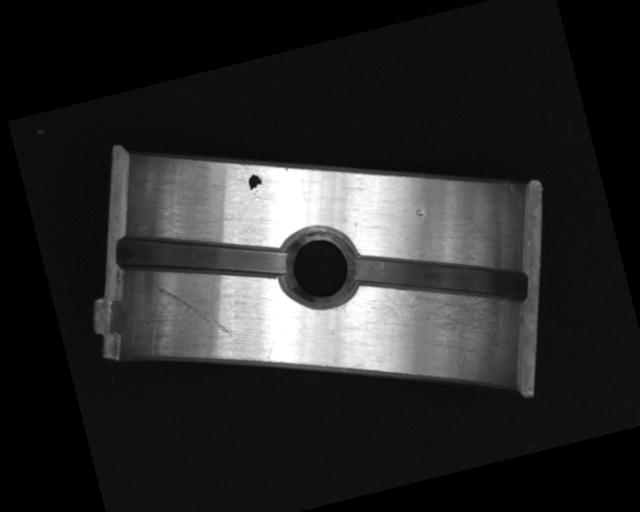blot: (245, 172, 265, 196)
bruise: (413, 207, 426, 218)
gap: (350, 219, 529, 338), (111, 199, 290, 313)
hole: (274, 218, 363, 313)
nick: (155, 271, 233, 352)
scratch: (364, 261, 519, 382)
